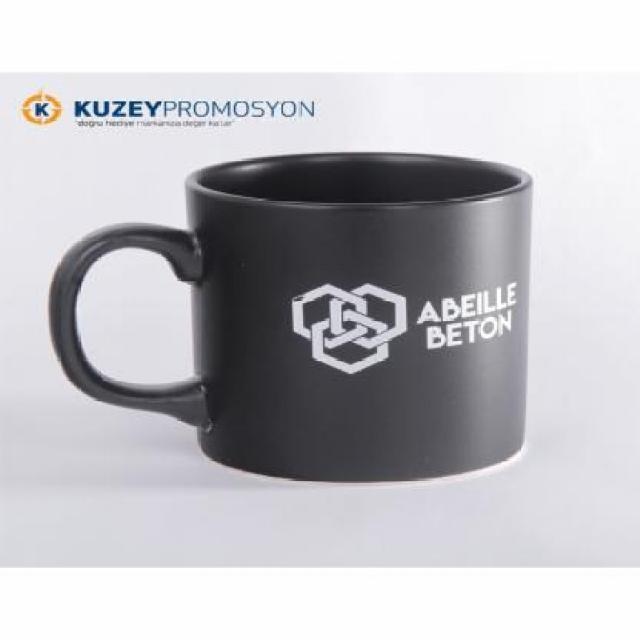taza: (34, 130, 541, 500)
